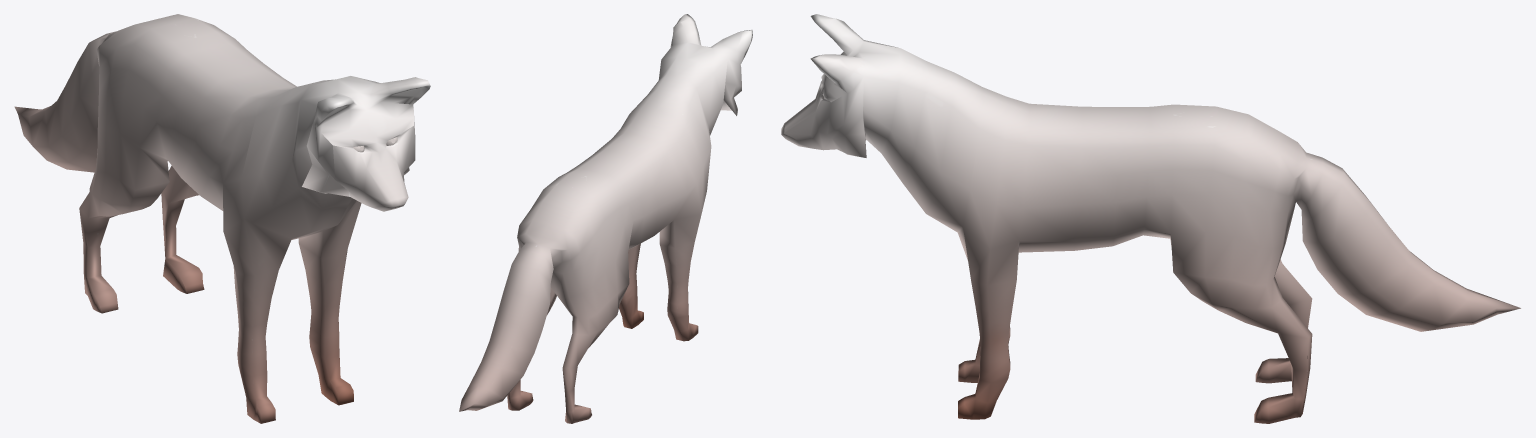
File: fox.gltf
The picture shows the model from 3 angles, left to right: view 1: azimuth 30°, elevation 25°; view 2: azimuth 150°, elevation 25°; view 3: azimuth 270°, elevation 25°; orthographic projection. The views are drawn at different scales.
Visible parts, largest first — view 1: fox; view 2: fox; view 3: fox.
Part boxes in pixels (<box>): fox: <box>14,14,430,423</box>; fox: <box>459,14,752,423</box>; fox: <box>781,14,1520,423</box>.
Bounding box in the file's own units: 0.5993 × 1.61 × 2.97.
1 material, 1 textured.
